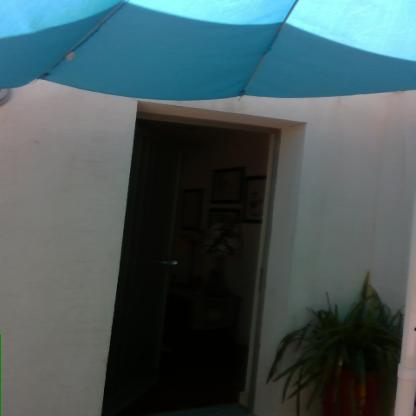open: (107, 99, 306, 416)
